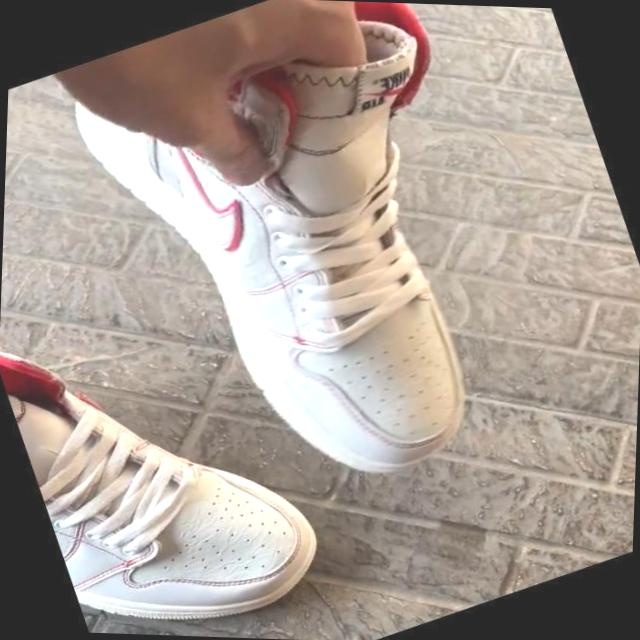nike_fake_jordan: (0, 247, 345, 640)
